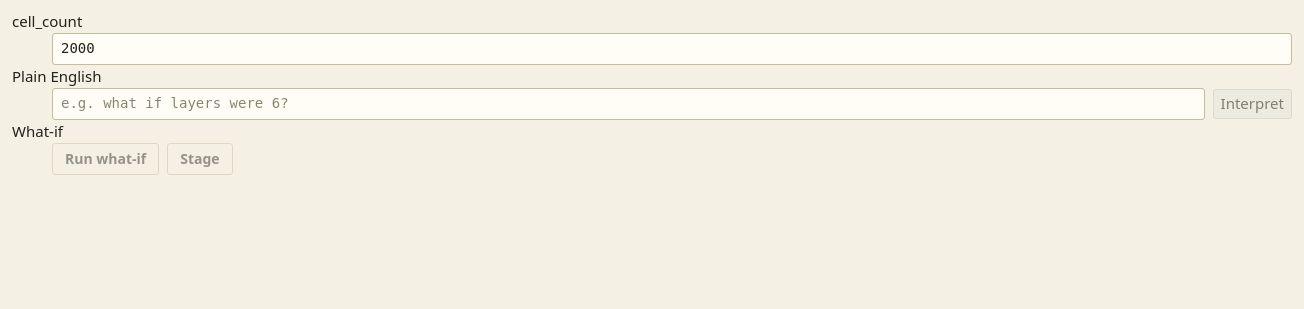
WhatIfEditor › resets values and clears the outcome
This screenshot has width=1304, height=309.
Replace the text in the field named "cell_count" with "5000": (672, 49) [52,33,1292,65]
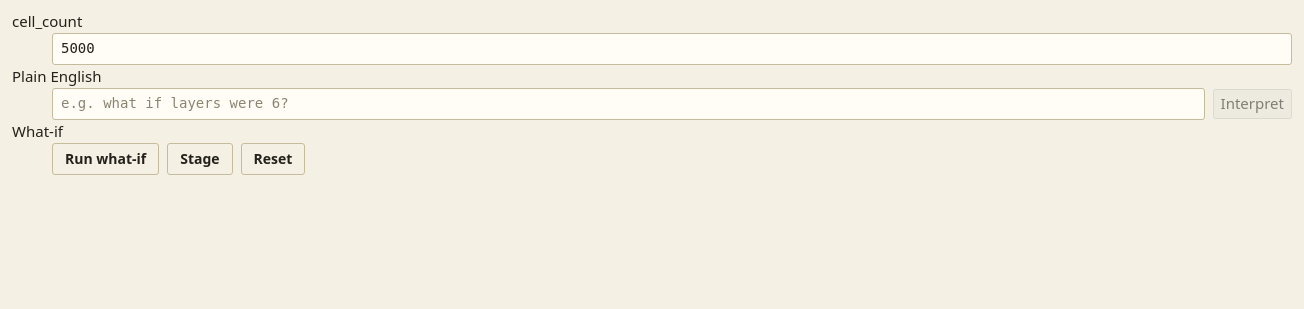
Click the button "Run what-if": click(106, 159) [52,143,159,175]
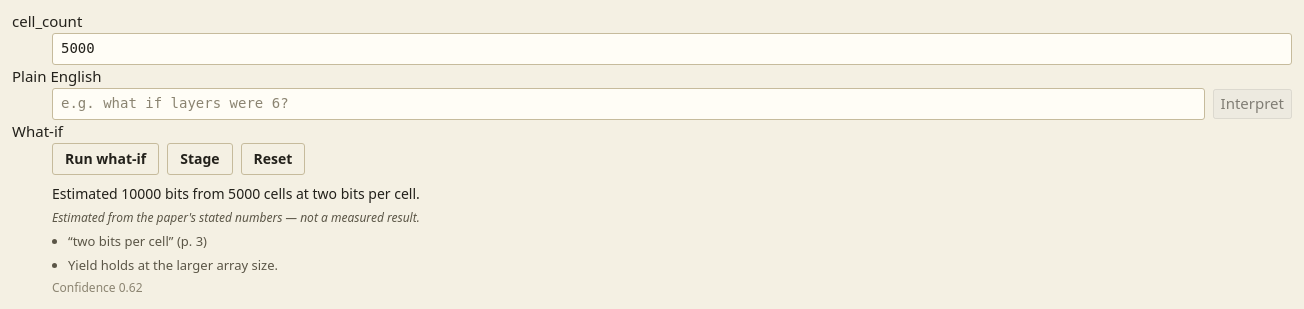
Expected: the text "Estimated 10000 bits from 5000 cells at two bits per cell." is shown, [52,184,420,203]
Click the button "Reset": click(273, 159) [241,143,305,175]
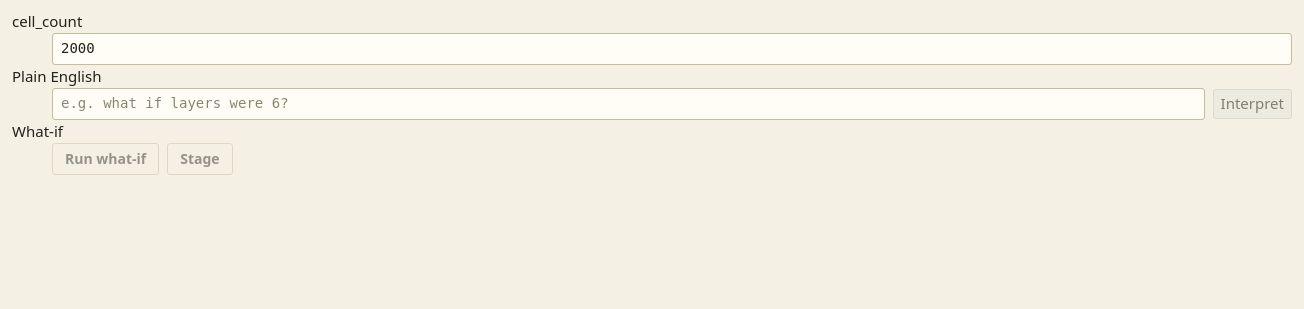
Expected: the field named "cell_count" holds "2000", [52,33,1292,65]
Expected: the text "Estimated 10000 bits" is gone
Expected: the button "Run what-if" is disabled, [52,143,159,175]
